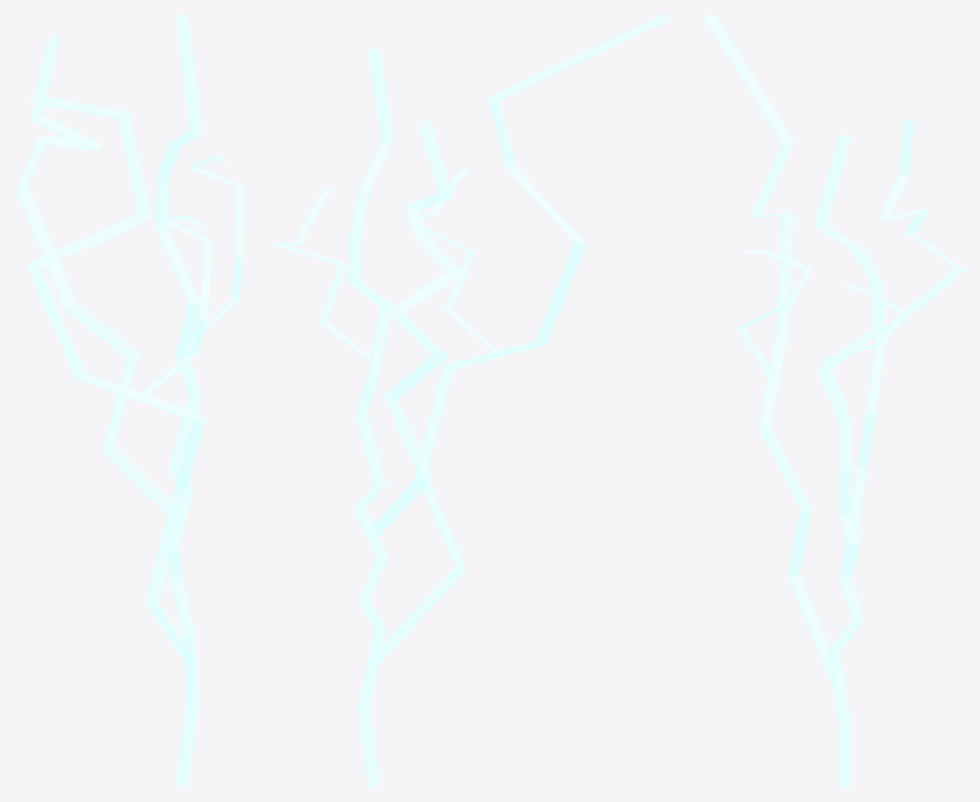
The picture shows the model from 3 angles, left to right: view 1: azimuth 30°, elevation 25°; view 2: azimuth 150°, elevation 25°; view 3: azimuth 270°, elevation 25°; orthographic projection. The views are drawn at different scales.
Parts seen in each view (by area): view 1: Cylinder, Cylinder.001, Cylinder.002, Cylinder.004, Cylinder.003; view 2: Cylinder, Cylinder.001, Cylinder.002, Cylinder.003, Cylinder.004; view 3: Cylinder.001, Cylinder, Cylinder.002, Cylinder.003, Cylinder.004.
Part boxes in pixels (x1,y1,x2,y2): Cylinder: (155, 14, 202, 787); Cylinder.001: (26, 94, 205, 667); Cylinder.002: (14, 34, 186, 523); Cylinder.004: (135, 215, 212, 401); Cylinder.003: (179, 155, 244, 349); Cylinder: (348, 48, 393, 787); Cylinder.001: (368, 14, 673, 664); Cylinder.002: (365, 120, 461, 538); Cylinder.003: (273, 187, 381, 365); Cylinder.004: (406, 167, 502, 355); Cylinder.001: (702, 14, 843, 684); Cylinder: (814, 134, 886, 787); Cylinder.002: (843, 119, 965, 564); Cylinder.003: (821, 284, 906, 415); Cylinder.004: (737, 250, 812, 379).
Size of the model in its own units: 235 by 571 by 201.
